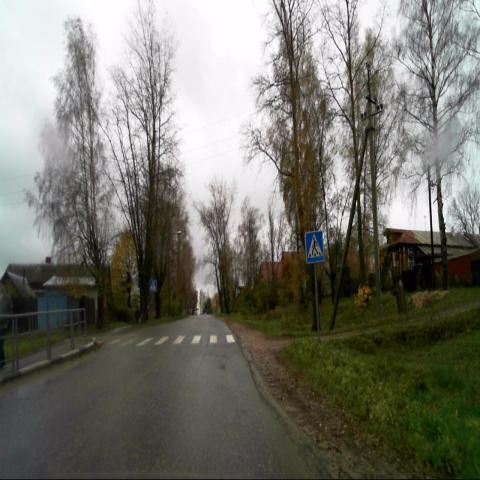5_19_1: (304, 229, 324, 264), (148, 279, 155, 289)
